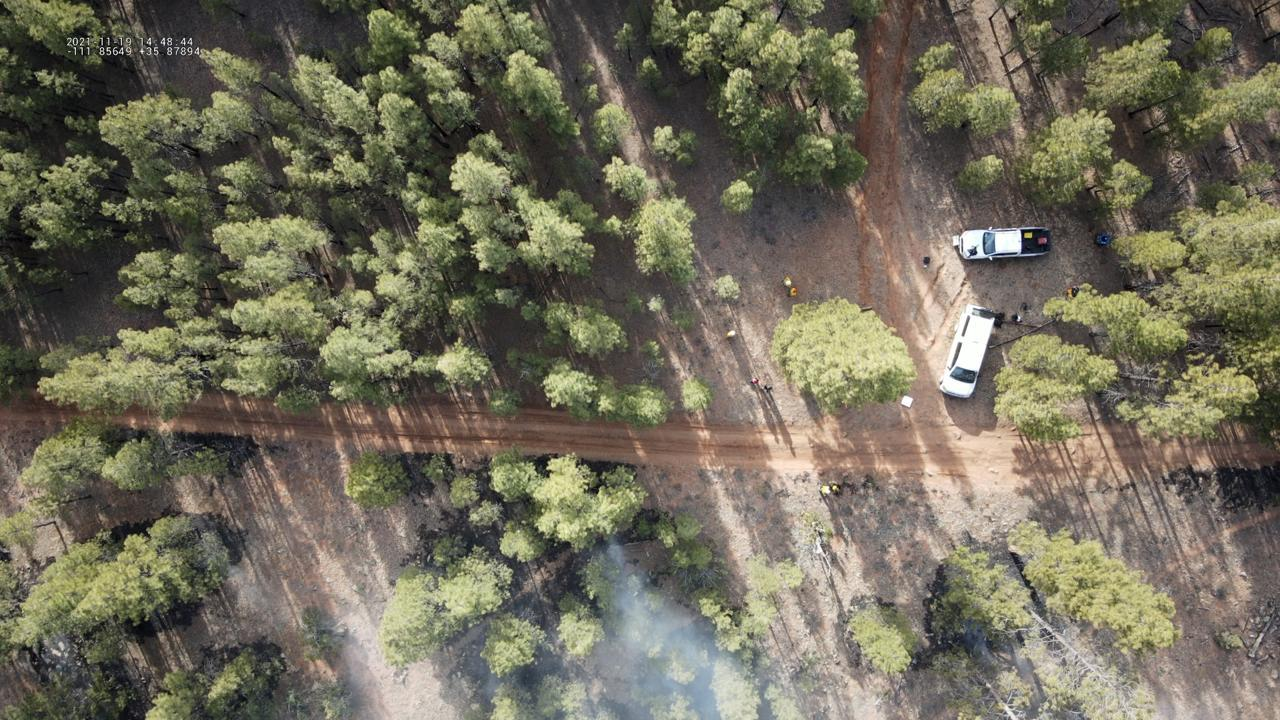smoke: (576, 533, 773, 720), (962, 613, 995, 659), (481, 667, 513, 706)
